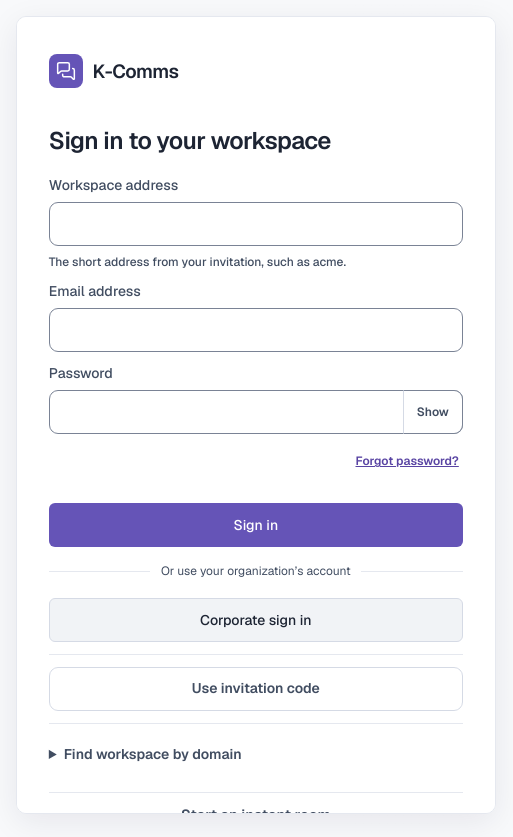
Scenario: AuthScreen › desktop refuses corporate initiation before requesting any authorization URL
Step 1. Click the button "Corporate sign in" → (256, 620), box [49,598,463,642]
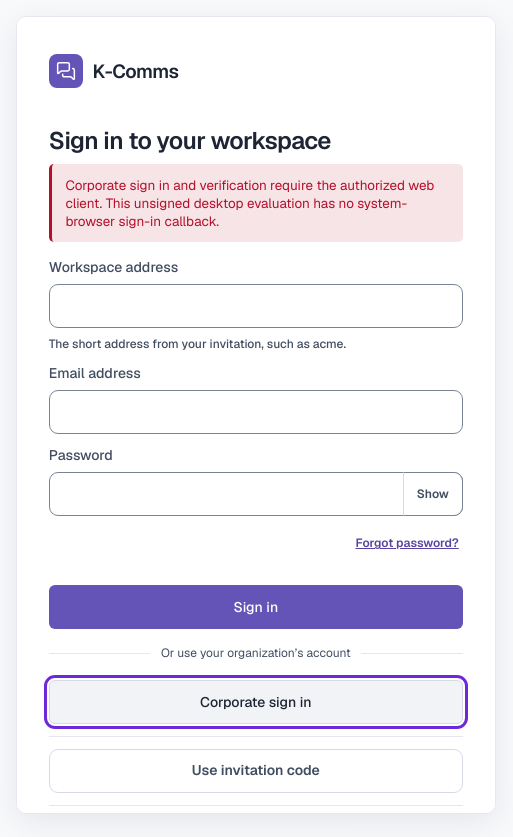
Now the message shows "authorized web client", box [65,176,434,230]
